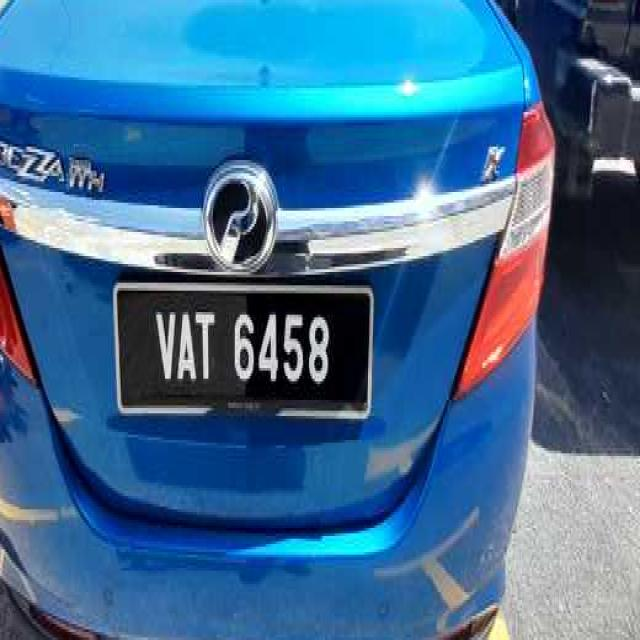car-plate: (108, 260, 381, 446)
